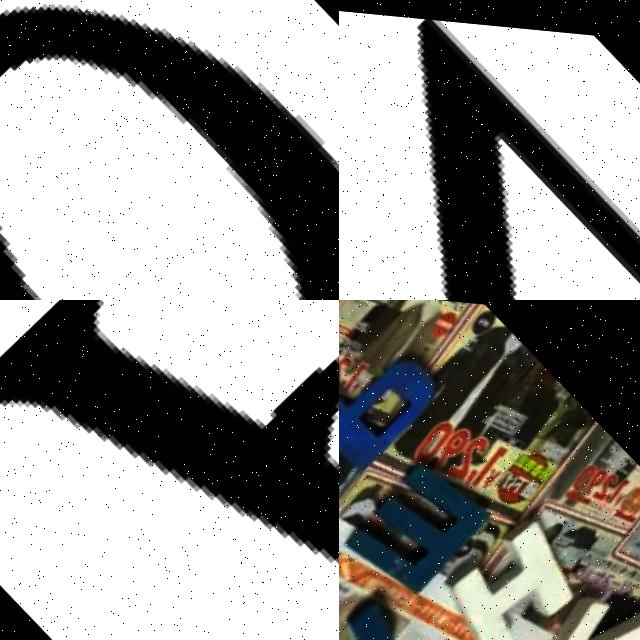0: (0, 0, 339, 300)
H: (427, 491, 598, 640)
K: (339, 576, 441, 640)
M: (339, 421, 508, 603)
N: (339, 0, 640, 300)
P: (339, 311, 448, 476)
Z: (518, 542, 640, 640)
